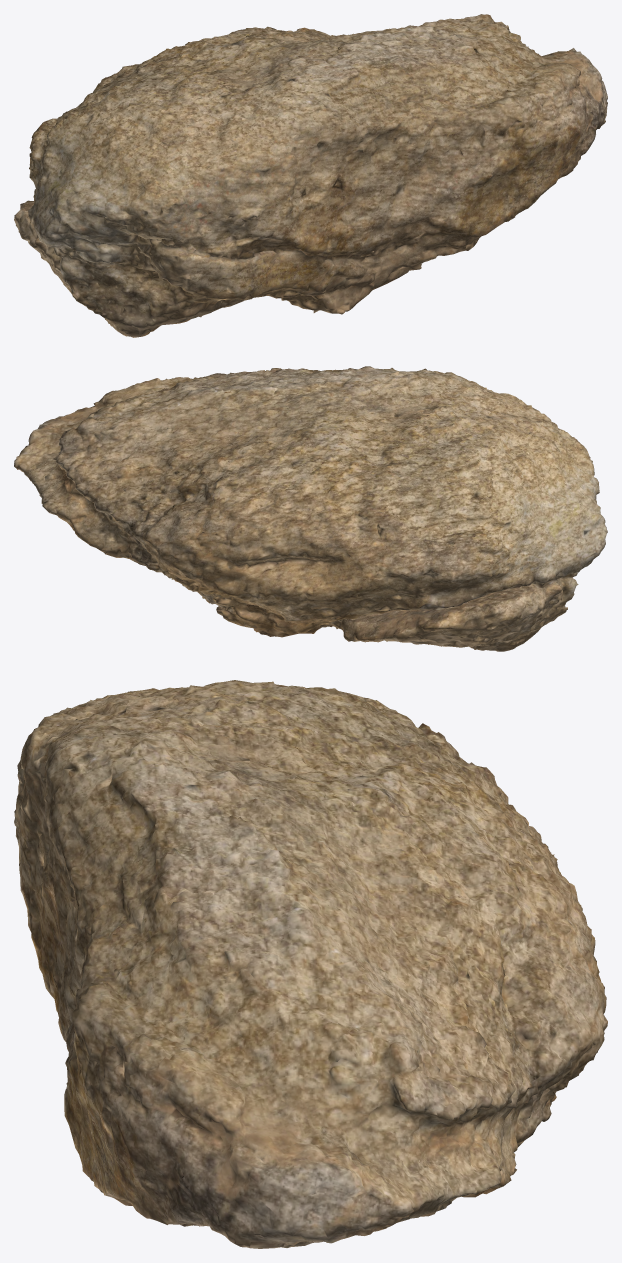
File: namaqualand_boulder_05.glb
3 views of the same model, one above another, from view 1: azimuth 30°, elevation 25°; view 2: azimuth 150°, elevation 25°; view 3: azimuth 270°, elevation 25° (orthographic). The views are drawn at different scales.
Parts seen in each view (by area): view 1: namaqualand_boulder_05; view 2: namaqualand_boulder_05; view 3: namaqualand_boulder_05.
Boxes of the visible parts, x1,y1,x2,y2 form: namaqualand_boulder_05: (14, 14, 607, 337); namaqualand_boulder_05: (14, 366, 607, 651); namaqualand_boulder_05: (14, 680, 607, 1248).
Size of the model in its own units: 2 by 0.7894 by 1.1.
Materials: 1 (1 with a texture image).
